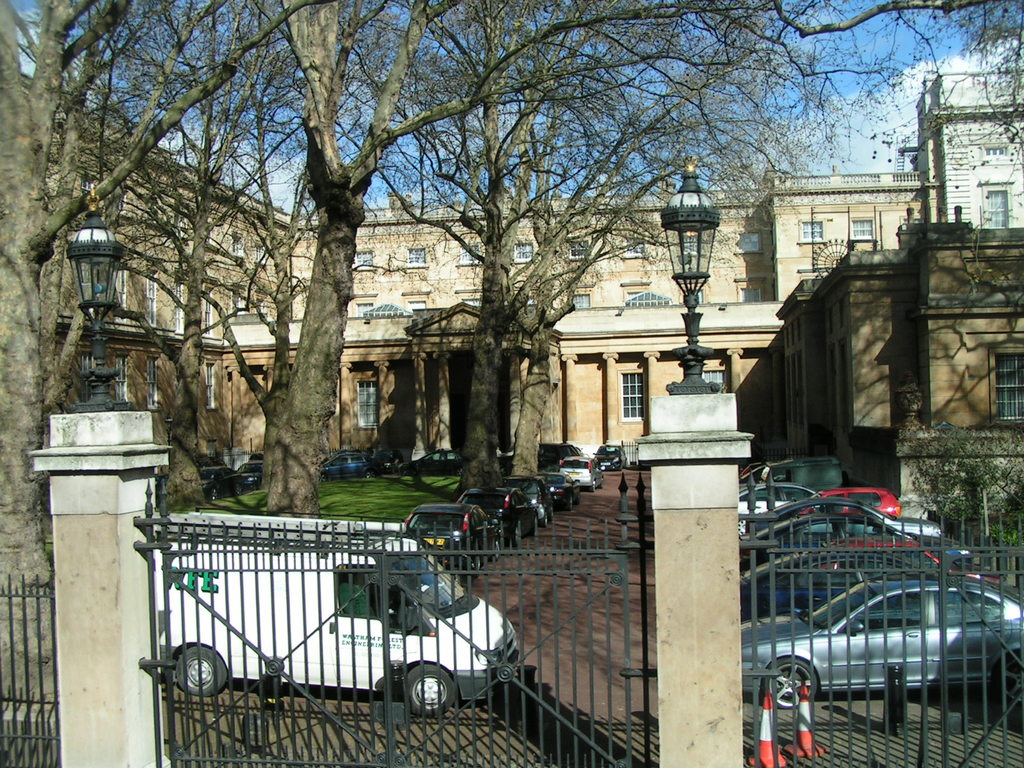Car: (728, 569, 1018, 732), (750, 501, 947, 552), (405, 501, 503, 588), (456, 494, 536, 553), (801, 481, 893, 524), (503, 469, 556, 517), (560, 456, 595, 485), (547, 476, 576, 500)
